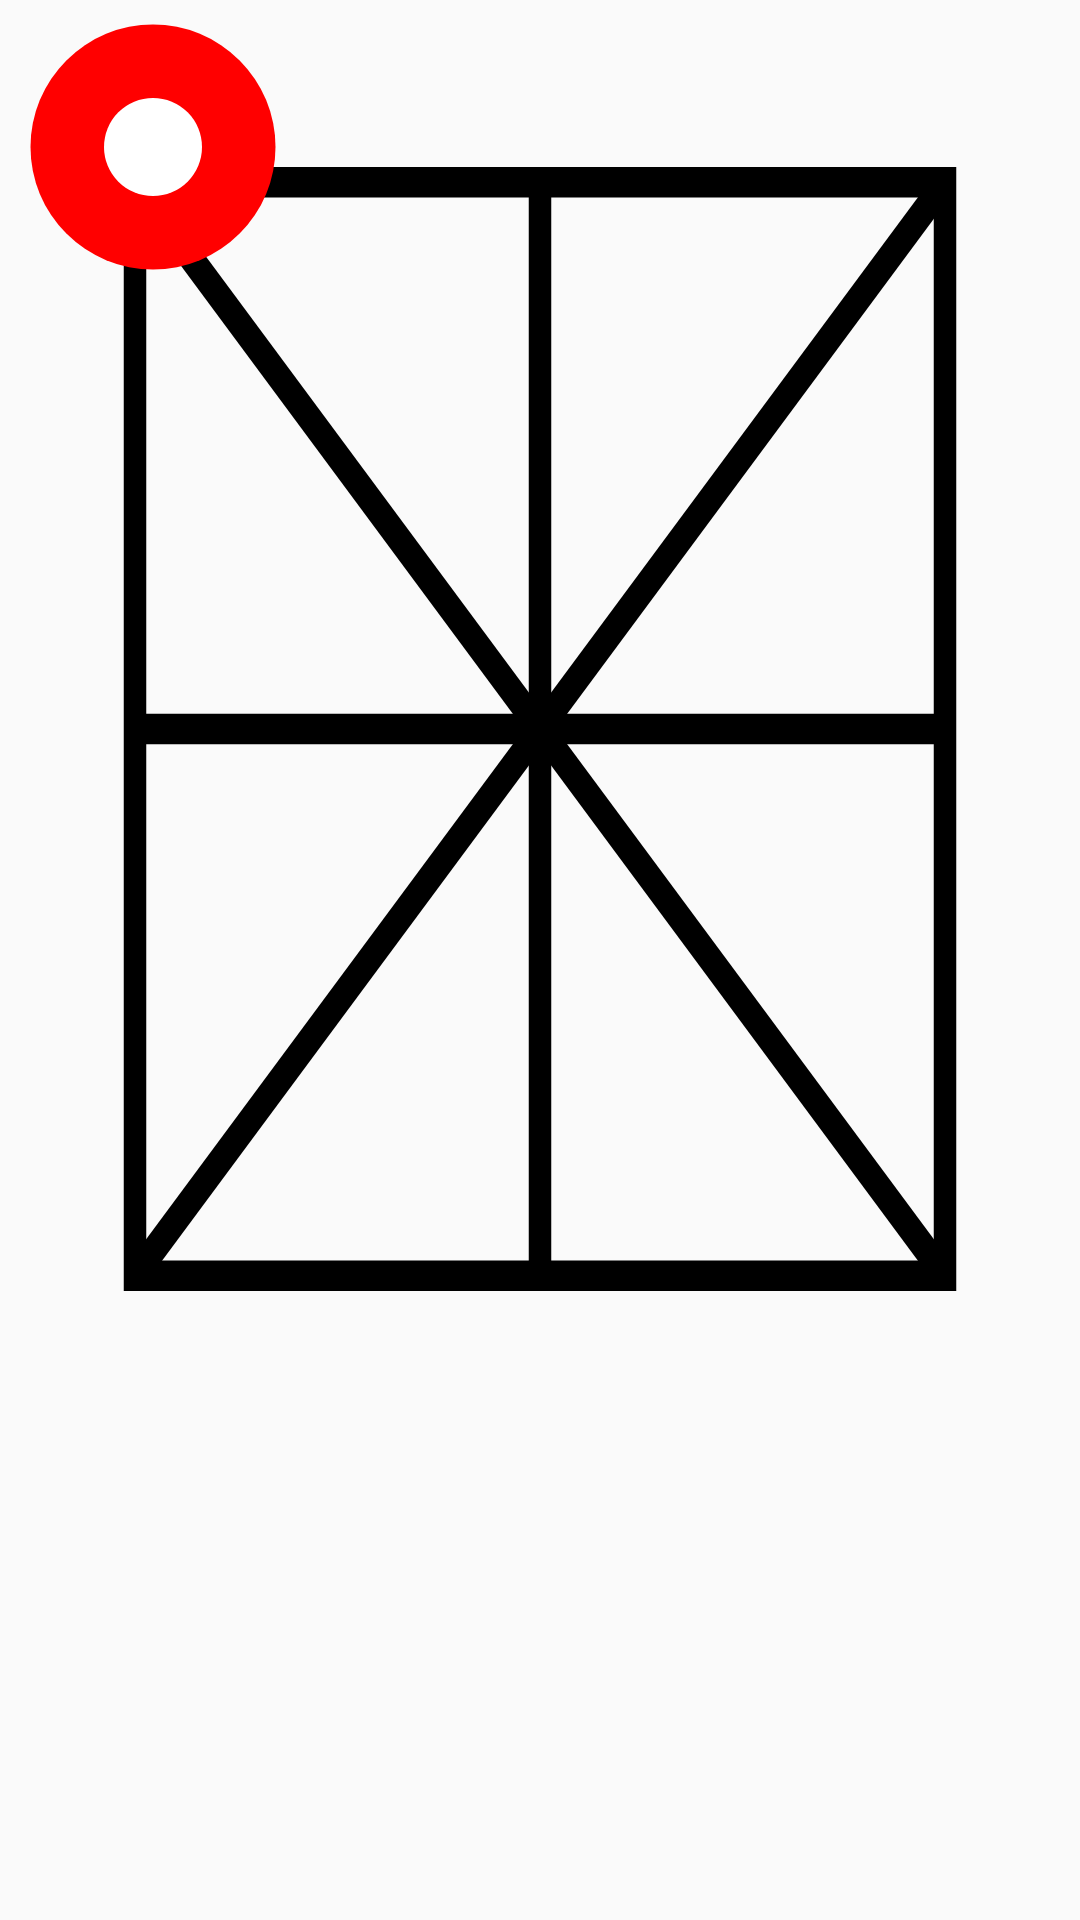

Icons on this 1080 x 1920 Android screen, each with its box as (x1, y1, x2, y2):
player piece: (30, 24, 306, 294)
